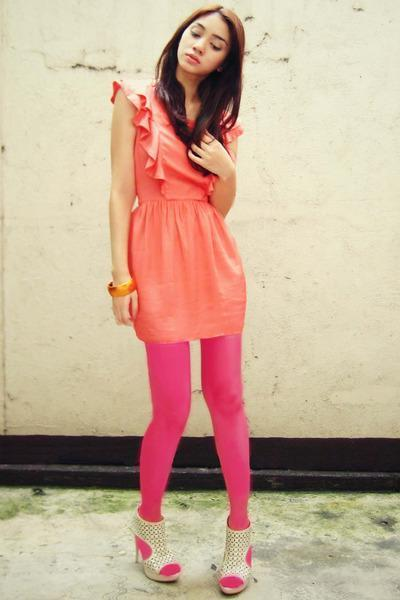dress: (108, 72, 247, 345)
